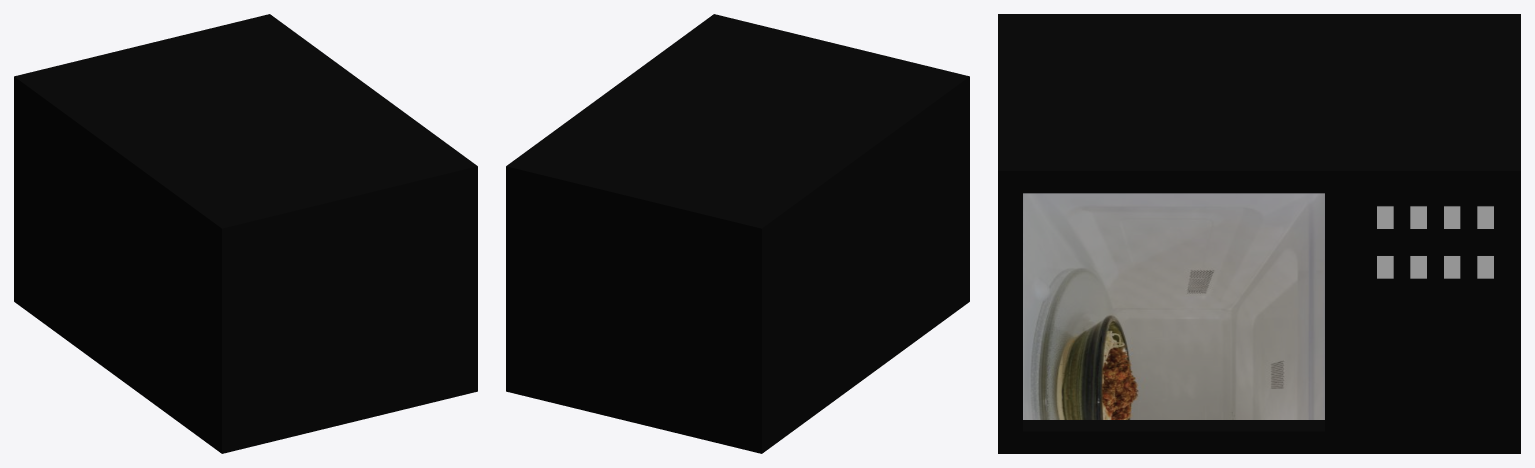
The model's file is microwave.fbx.
3 renders of one model, left to right at view 1: azimuth 30°, elevation 25°; view 2: azimuth 150°, elevation 25°; view 3: azimuth 270°, elevation 25°, orthographic. The views are drawn at different scales.
Parts seen in each view (by area): view 1: Cube; view 2: Cube; view 3: Cube.
Boxes of the visible parts, left/top/right/bottom form: Cube: left=14, top=14, right=477, bottom=453; Cube: left=506, top=14, right=969, bottom=453; Cube: left=998, top=14, right=1520, bottom=453.
Size of the model in its own units: 201 by 168 by 282.
